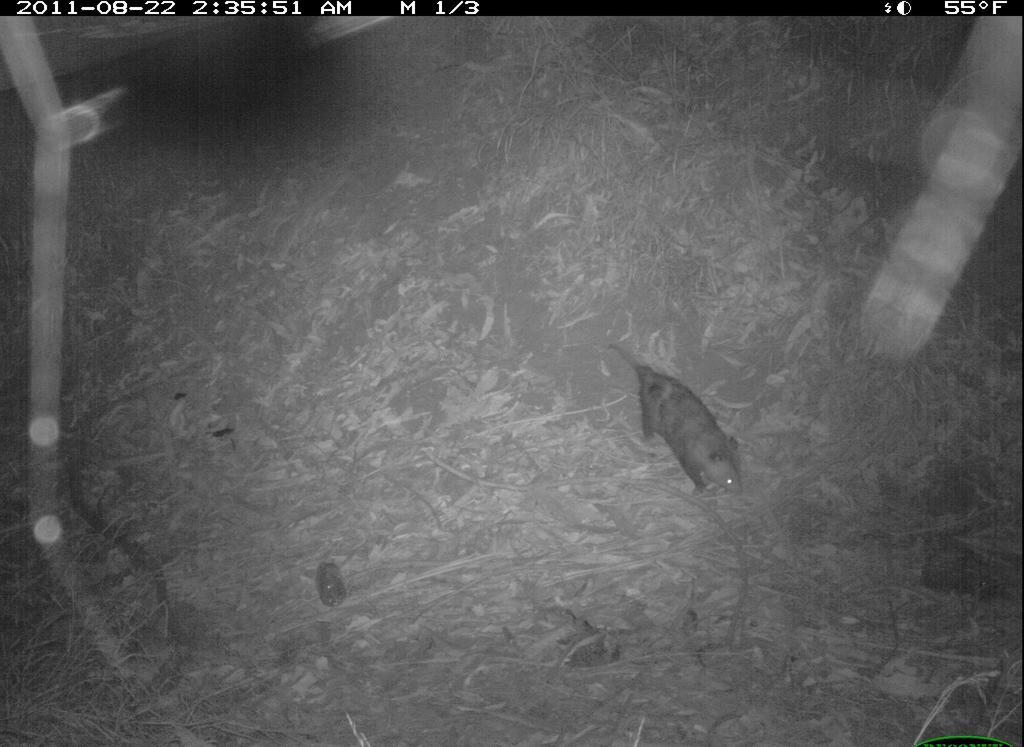opossum: (605, 338, 753, 509)
